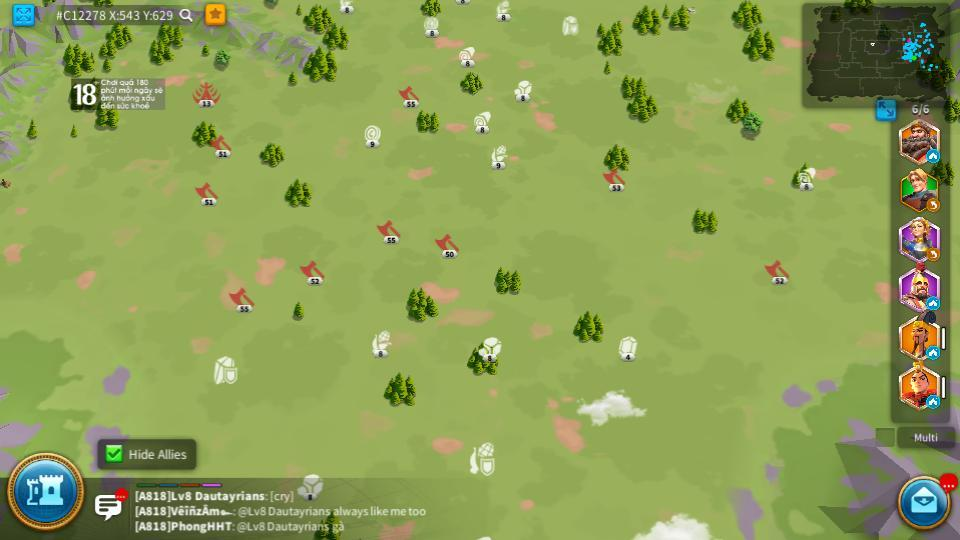gem-z-out: (617, 336, 639, 358), (475, 536, 495, 539)
march_idle: (926, 395, 940, 407), (927, 348, 940, 359), (925, 298, 938, 309), (925, 150, 938, 161)
march_returning: (926, 248, 941, 261), (927, 201, 940, 212)
